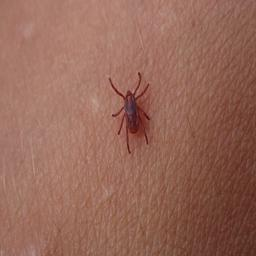Rhipicephalus sanguineus: (108, 77, 152, 155)
